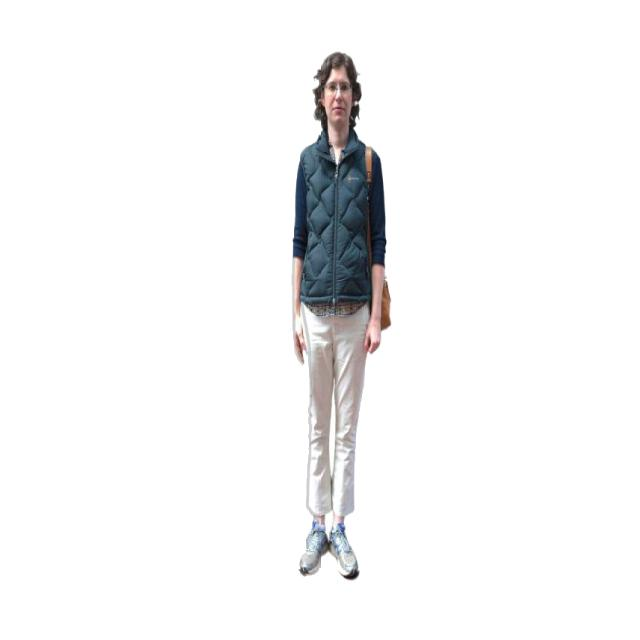jovem: (277, 45, 405, 597)
